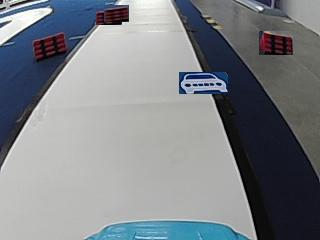bomb: (32, 31, 66, 60)
